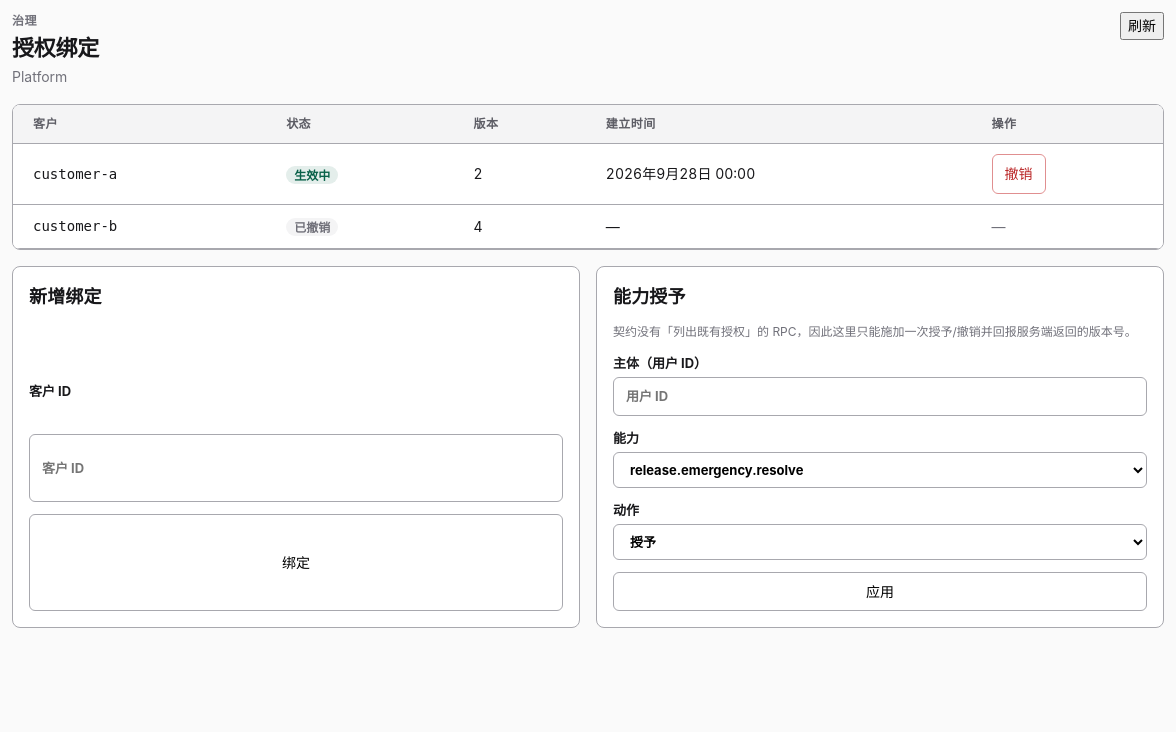
it: BindingsPage characterization › refuses an already active customer even with surrounding whitespace
Type "  customer-a  " into the field named "customerId". click: {"x": 296, "y": 468}
box: [29,434,563,502]
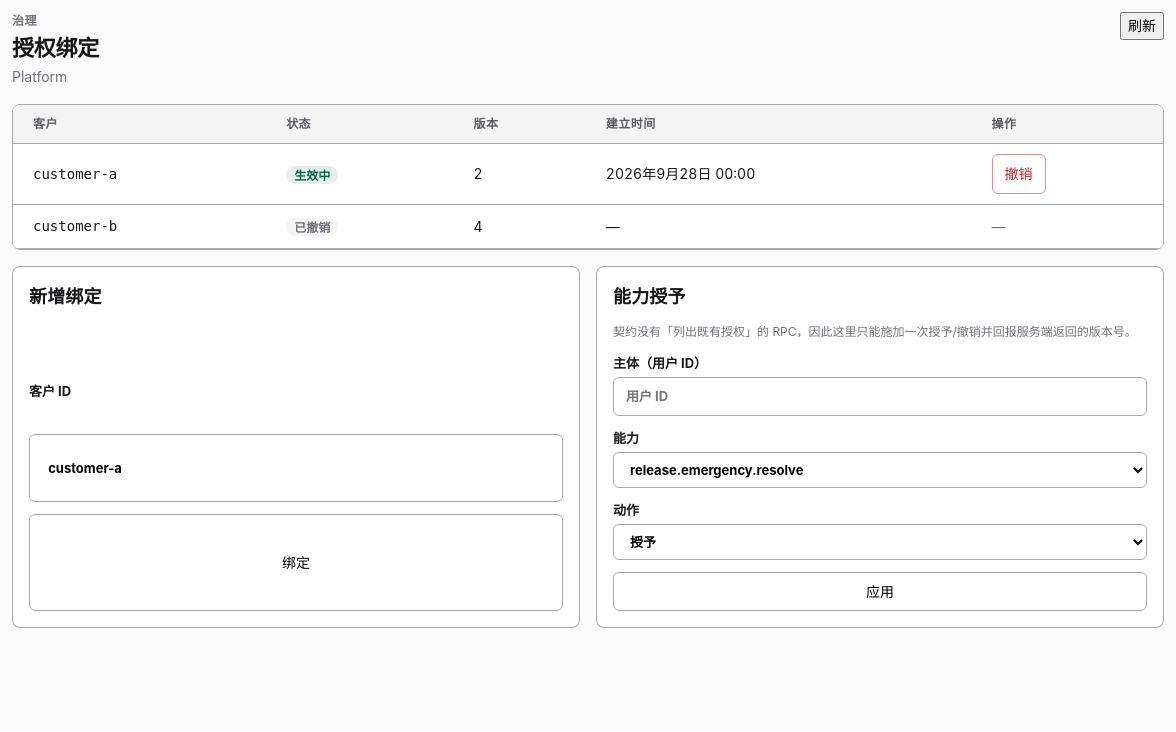
Submit the form "新增绑定 客户 ID 绑定", box [12,266,580,628]
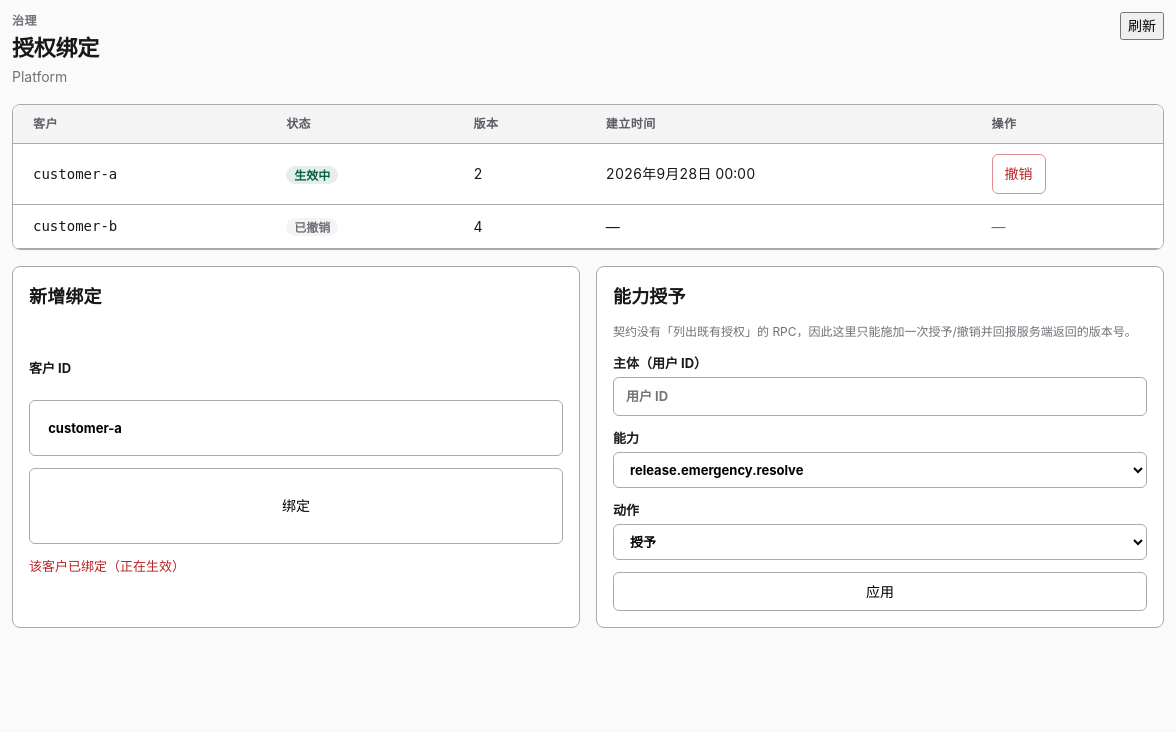
Expected: the message with test id "binding-create-error" reads "该客户已绑定（正在生效）", [29,558,185,574]
